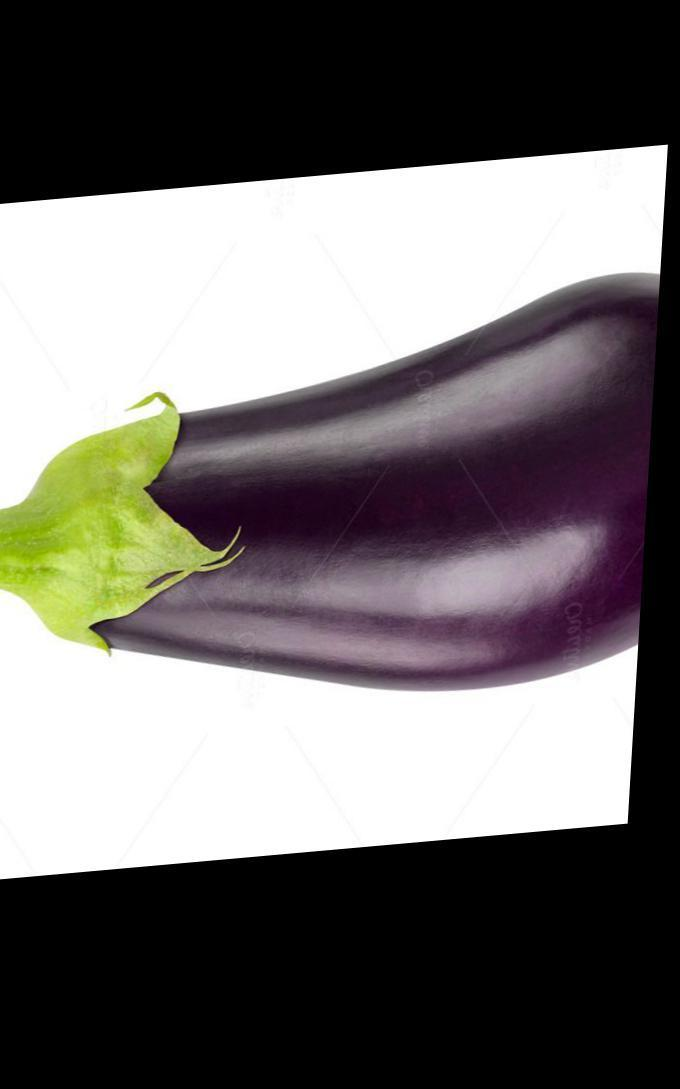eggplant: (0, 288, 663, 747)
